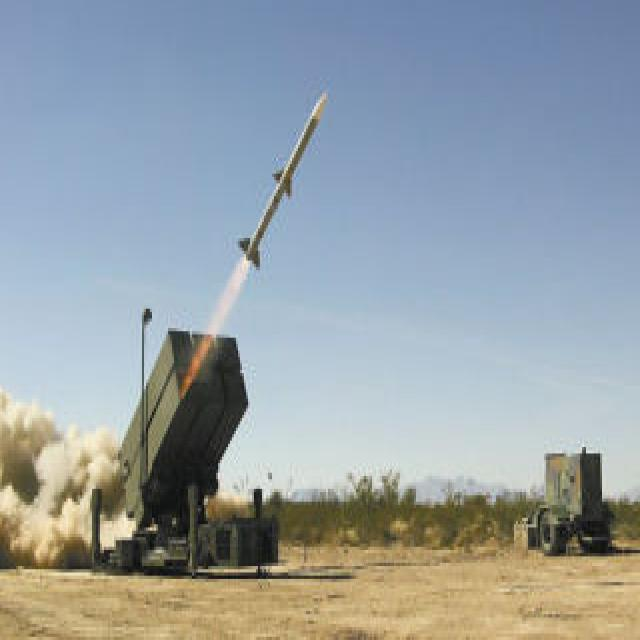Missile: (232, 82, 345, 272)
